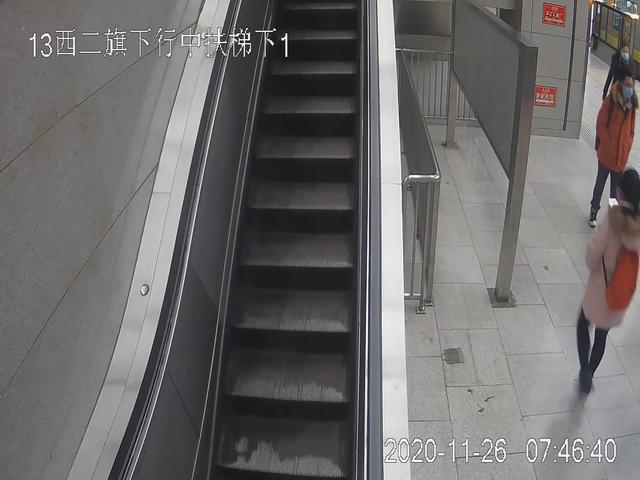person: (576, 169, 640, 393), (587, 74, 640, 227), (603, 42, 637, 130)
